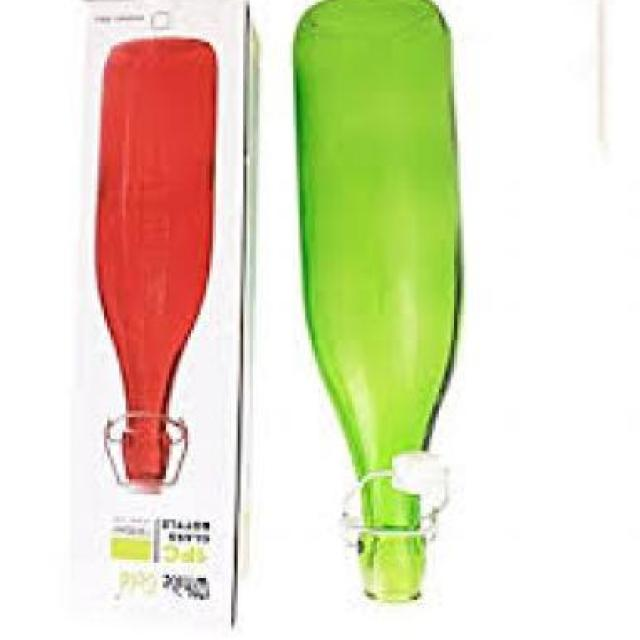kaca: (296, 0, 466, 605), (101, 42, 221, 491)
